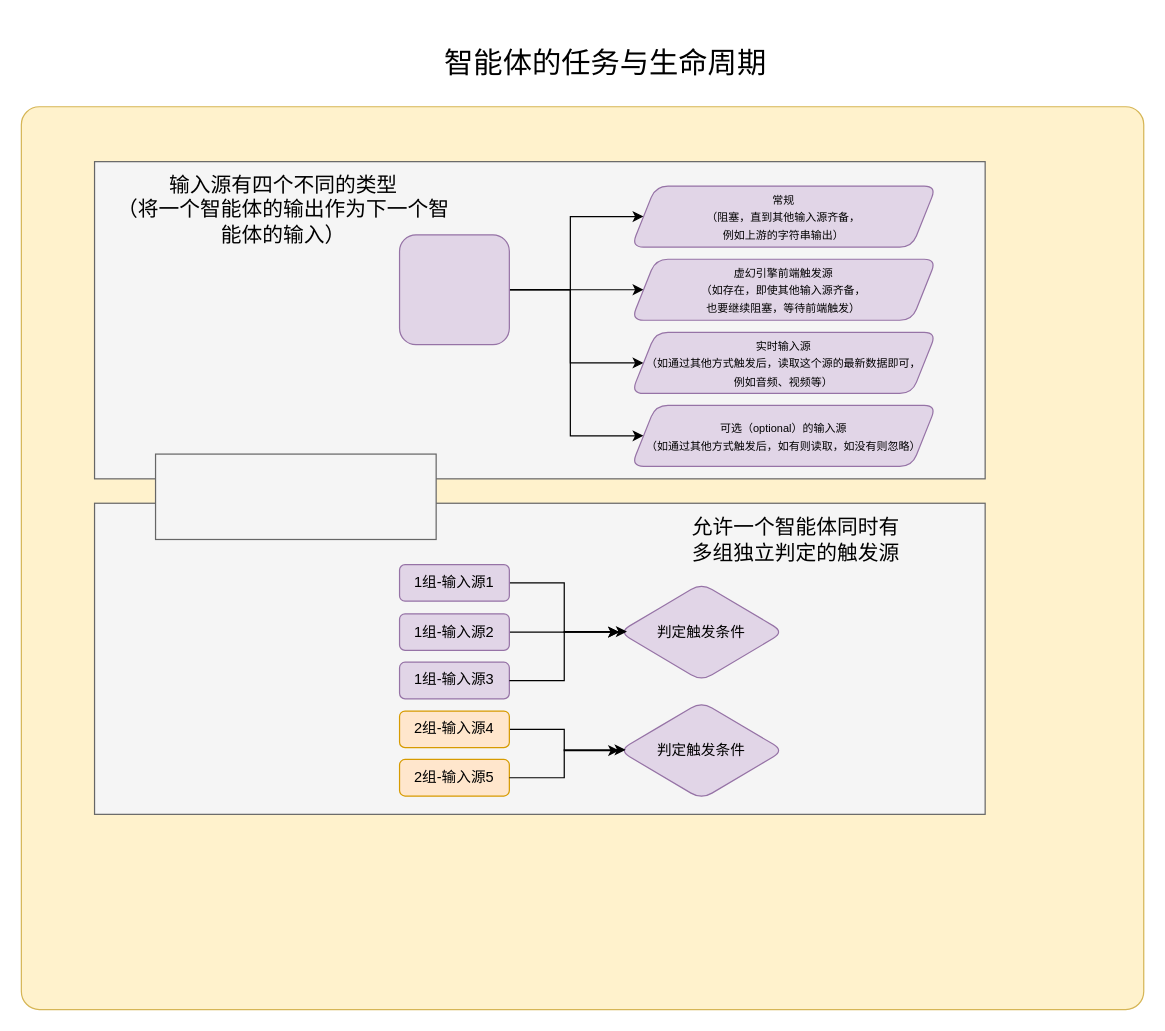
Some shapes in this 1165 by 1031 pixel diagram are drawn without their labels. Each missing label, with the box of its shape:
智能体在workflow中的多输入触发机制: (154, 453, 436, 539)
输入源分类: (398, 234, 509, 345)
